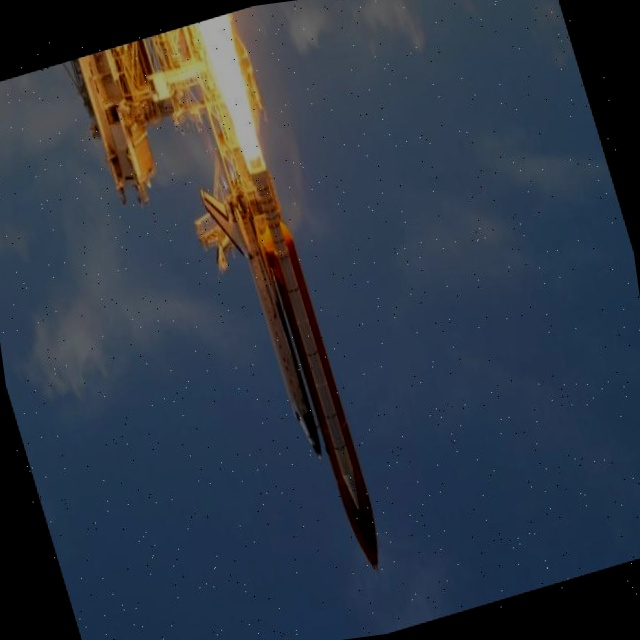rocket: (201, 168, 329, 479)
